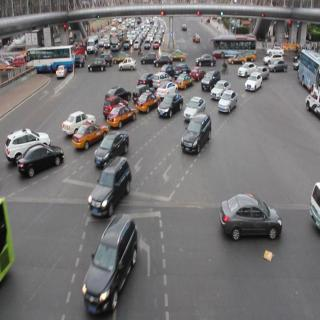BigCar: (213, 28, 260, 58), (24, 46, 77, 66)
Car: (84, 214, 132, 319), (218, 188, 284, 245), (95, 149, 129, 205), (14, 142, 62, 178), (4, 125, 48, 157), (61, 108, 100, 136), (95, 129, 124, 161), (111, 101, 139, 131), (186, 114, 208, 152), (160, 86, 182, 120), (87, 58, 115, 79), (193, 50, 217, 72), (219, 86, 234, 113), (187, 91, 201, 118), (119, 53, 138, 70), (154, 50, 172, 66), (250, 69, 260, 94)
